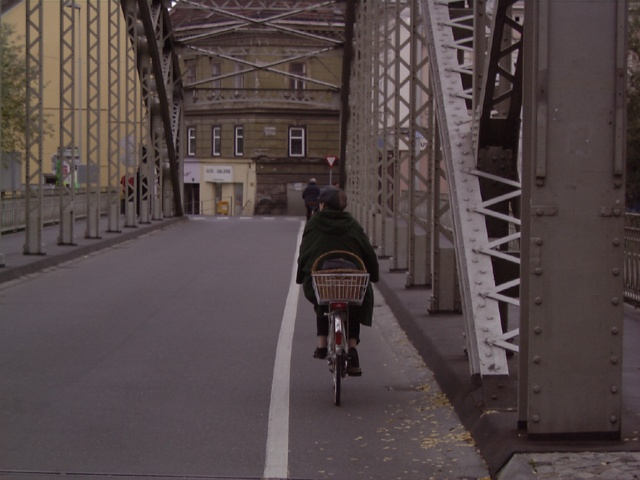person: (295, 186, 380, 387)
